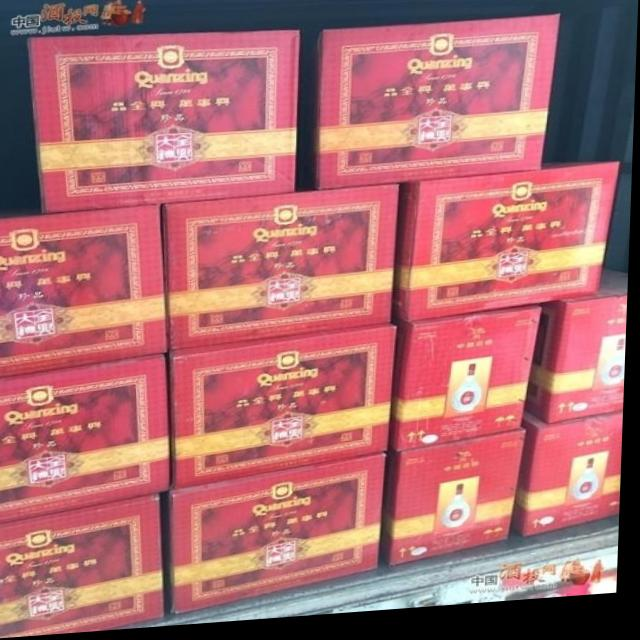box: (30, 33, 301, 215), (318, 22, 560, 195), (161, 190, 402, 353), (170, 328, 399, 492), (394, 167, 621, 327), (175, 457, 389, 619), (0, 208, 171, 380), (0, 357, 175, 525), (0, 496, 170, 639), (395, 312, 546, 457), (389, 435, 529, 572), (528, 277, 631, 432), (517, 418, 627, 544)
